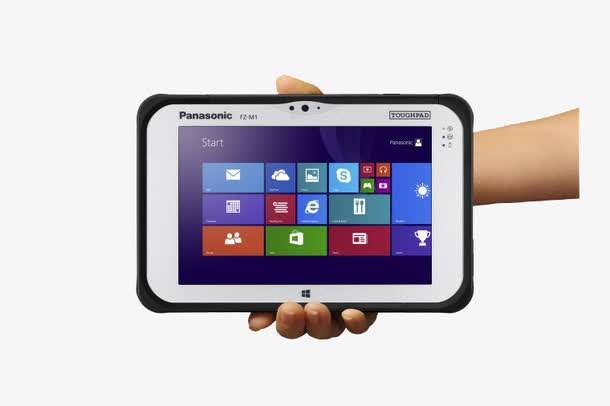pad: (124, 71, 481, 347)
